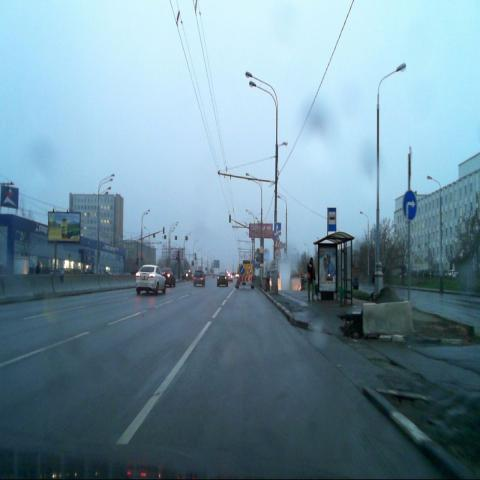4_1_2: (403, 190, 416, 221)
